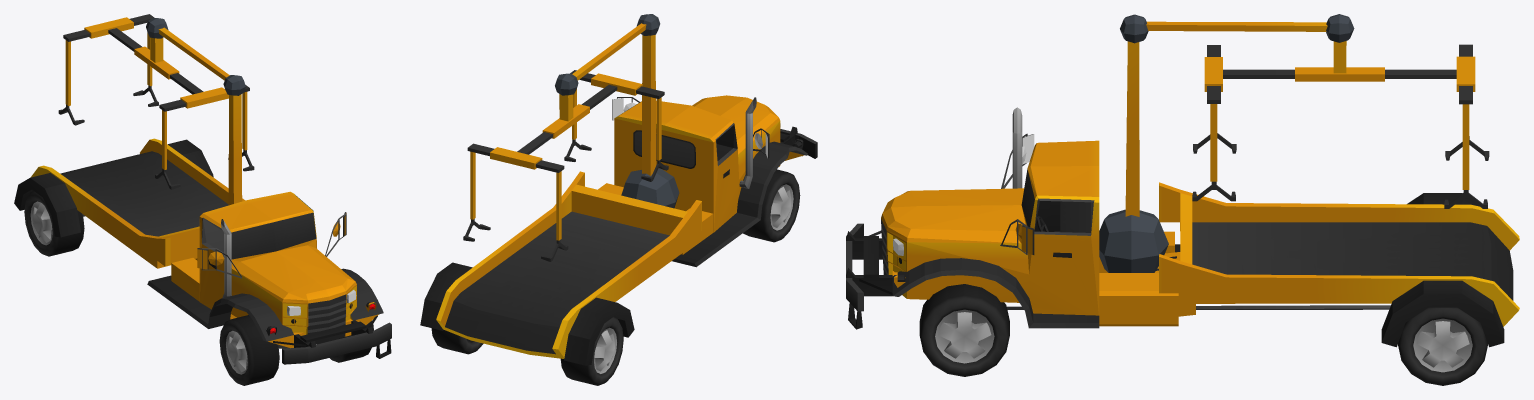
The model's file is Tow Truck.fbx.
The picture shows the model from 3 angles, left to right: view 1: azimuth 30°, elevation 25°; view 2: azimuth 150°, elevation 25°; view 3: azimuth 270°, elevation 25°; orthographic projection. The views are drawn at different scales.
Visible parts, largest first — view 1: Vehicle_Master_Tow_Truck_1, FR, RR, crane_Control_003, RodesScaler__Y___Axis_Scale__Nope, crane_Control_008, Scaler_Arm__Z_Axis_Scale_, Black_Scaler__X__Axis_Scale_, crane_Control_009, LifterRotator__Y_Axis_Rotate___Parent_Also_Of_Car_, Rotator_Arm__Y_Axis_Rotate_, FL (+2 smaller); view 2: Vehicle_Master_Tow_Truck_1, FR, RR, crane_Control_003, MainParent, RodesScaler__Y___Axis_Scale__Nope, crane_Control_008, Black_Scaler__X__Axis_Scale_, Scaler_Arm__Z_Axis_Scale_, RL, crane_Control_009, LifterRotator__Y_Axis_Rotate___Parent_Also_Of_Car_ (+3 smaller); view 3: Vehicle_Master_Tow_Truck_1, FL, RL, MainParent, crane_Control_003, Scaler_Arm__Z_Axis_Scale_, crane_Control_009, RodesScaler__Y___Axis_Scale__Nope, LifterRotator__Y_Axis_Rotate___Parent_Also_Of_Car_, crane_Control_008, Black_Scaler__X__Axis_Scale_, CraneObject (+1 smaller).
Boxes of the visible parts, x1,y1,x2,y2 form: Vehicle_Master_Tow_Truck_1: [14, 138, 391, 364]; FR: [219, 315, 279, 385]; RR: [24, 191, 84, 256]; crane_Control_003: [228, 94, 242, 205]; RodesScaler__Y___Axis_Scale__Nope: [65, 32, 247, 169]; crane_Control_008: [84, 17, 228, 108]; Scaler_Arm__Z_Axis_Scale_: [158, 27, 229, 80]; Black_Scaler__X__Axis_Scale_: [63, 14, 249, 111]; crane_Control_009: [108, 28, 203, 94]; LifterRotator__Y_Axis_Rotate___Parent_Also_Of_Car_: [134, 46, 179, 79]; Rotator_Arm__Y_Axis_Rotate_: [223, 75, 245, 95]; FL: [330, 320, 373, 362]; Vehicle_Master_Tow_Truck_1: [420, 95, 817, 365]; FR: [743, 169, 800, 242]; RR: [560, 317, 623, 385]; crane_Control_003: [642, 35, 656, 175]; MainParent: [621, 168, 679, 208]; RodesScaler__Y___Axis_Scale__Nope: [470, 89, 661, 240]; crane_Control_008: [490, 73, 642, 169]; Black_Scaler__X__Axis_Scale_: [467, 70, 664, 172]; Scaler_Arm__Z_Axis_Scale_: [572, 23, 646, 80]; RL: [431, 328, 483, 354]; crane_Control_009: [517, 84, 617, 154]; LifterRotator__Y_Axis_Rotate___Parent_Also_Of_Car_: [542, 104, 589, 138]; Vehicle_Master_Tow_Truck_1: [846, 107, 1519, 347]; FL: [919, 284, 1009, 376]; RL: [1398, 307, 1487, 385]; MainParent: [1099, 209, 1168, 272]; crane_Control_003: [1125, 41, 1139, 216]; Scaler_Arm__Z_Axis_Scale_: [1146, 21, 1327, 31]; crane_Control_009: [1223, 69, 1456, 78]; RodesScaler__Y___Axis_Scale__Nope: [1210, 104, 1469, 189]; LifterRotator__Y_Axis_Rotate___Parent_Also_Of_Car_: [1295, 67, 1384, 81]; crane_Control_008: [1204, 56, 1475, 91]; Black_Scaler__X__Axis_Scale_: [1207, 44, 1472, 104]; CraneObject: [1326, 14, 1354, 42].
Bounding box in the file's own units: 389 × 585 × 1098.
